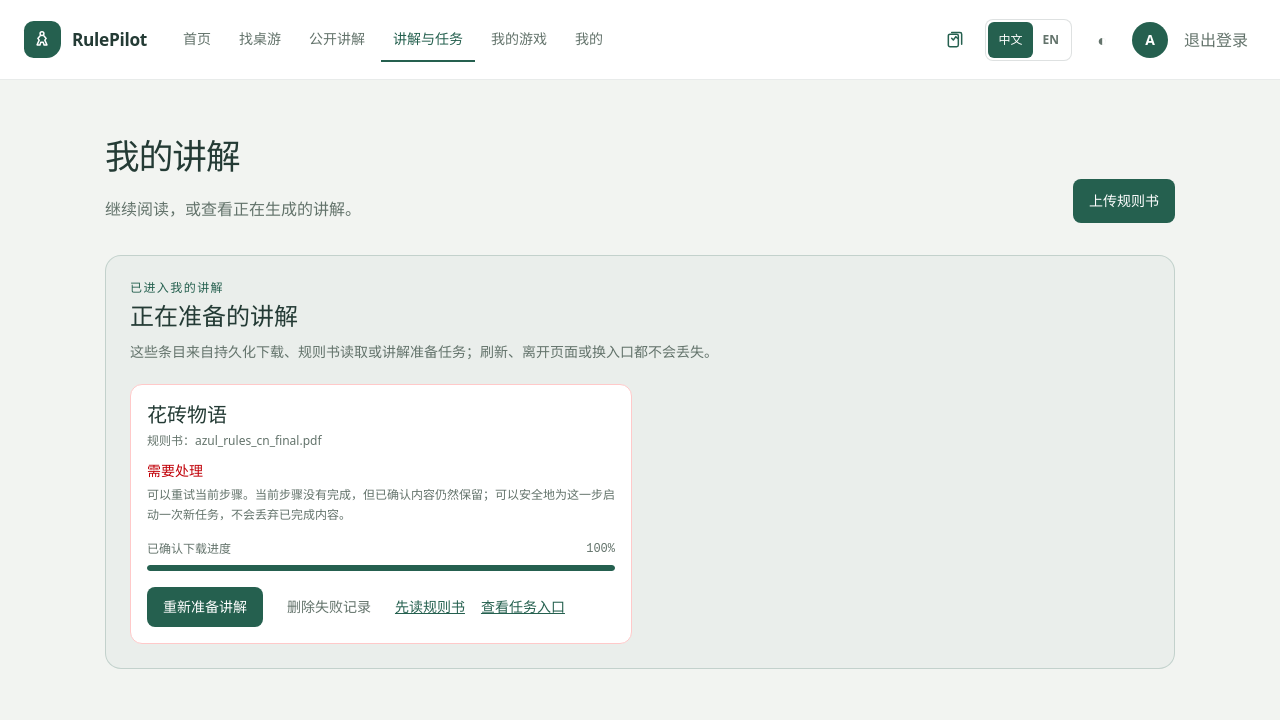
Test case: LessonsView › shows a persisted preparation failure instead of an endlessly active guide
Expected: the list item with test id "pending-guide-journey" shows "花砖物语", x1=147 y1=401 x2=227 y2=428
Expected: the text with test id "player-work-status" reads "需要处理", x1=147 y1=461 x2=203 y2=480
Step 1. Click the button "重新准备讲解" → (205, 607), box x1=147 y1=587 x2=263 y2=627
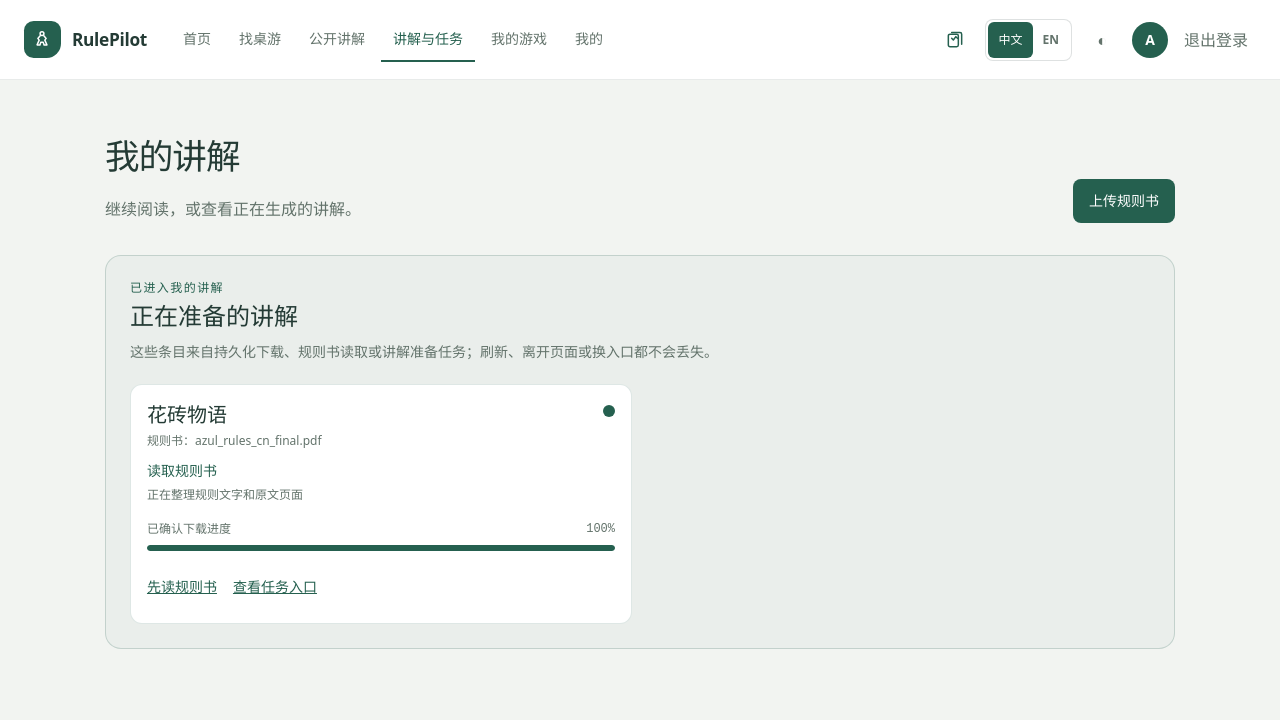
Result: the text with test id "player-work-status" reads "读取规则书" at x1=147 y1=461 x2=217 y2=480
Result: the text with test id "pending-guide-journey" no longer shows "需要处理"
Result: the element with class "animate-pulse" is shown at x1=603 y1=405 x2=615 y2=417
